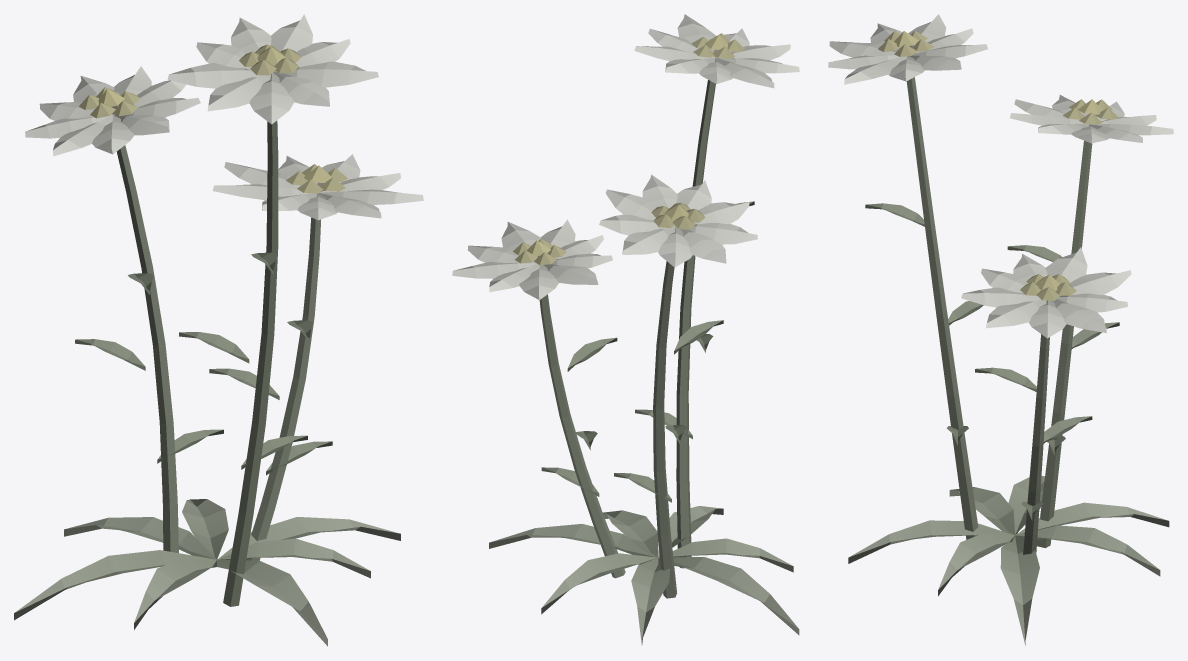
File: szarotka.glb
The picture shows the model from 3 angles, left to right: view 1: azimuth 30°, elevation 25°; view 2: azimuth 150°, elevation 25°; view 3: azimuth 270°, elevation 25°; orthographic projection. The views are drawn at different scales.
Parts seen in each view (by area): view 1: szarotka; view 2: szarotka; view 3: szarotka.
Boxes of the visible parts, x1,y1,x2,y2 form: szarotka: (14,14,423,646); szarotka: (452,14,799,645); szarotka: (828,14,1173,645).
Size of the model in its own units: 0.1153 by 0.1696 by 0.1003.
